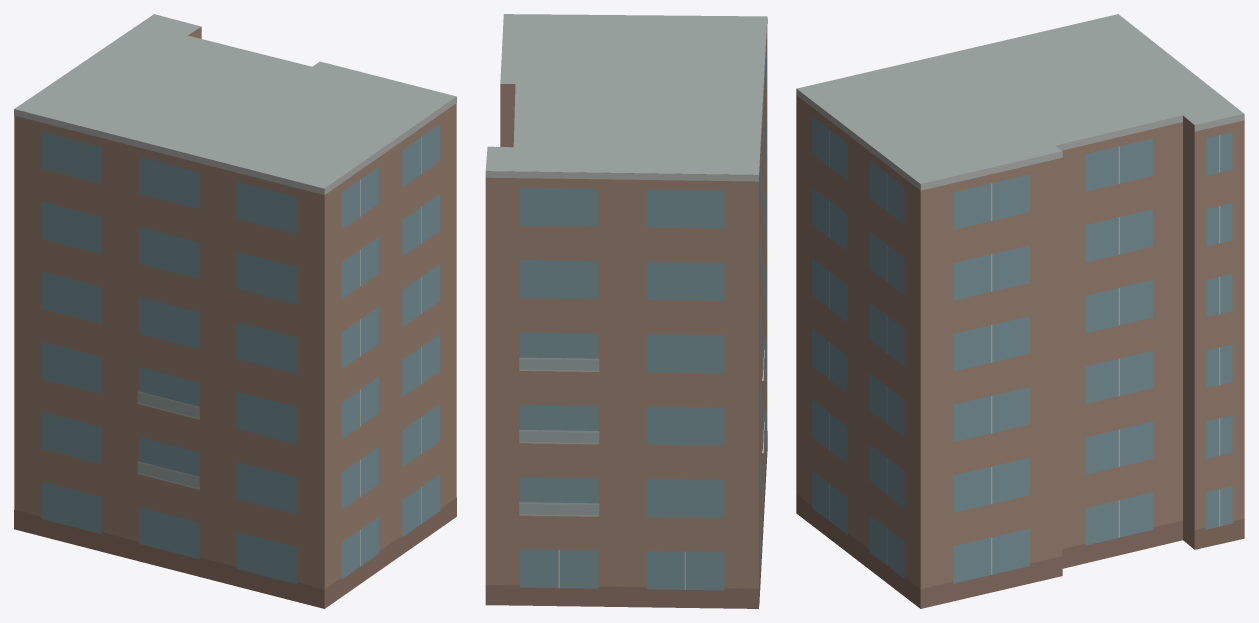
File: survey-upis-32887717.glb
3 views of the same model, side by side, from view 1: azimuth 30°, elevation 25°; view 2: azimuth 150°, elevation 25°; view 3: azimuth 270°, elevation 25° (orthographic). The views are drawn at different scales.
Parts seen in each view (by area): view 1: survey-upis-32887717.tmp; view 2: survey-upis-32887717.tmp; view 3: survey-upis-32887717.tmp.
Boxes of the visible parts, x1=… form: survey-upis-32887717.tmp: x1=14, y1=14, x2=456, y2=608; survey-upis-32887717.tmp: x1=485, y1=14, x2=767, y2=608; survey-upis-32887717.tmp: x1=796, y1=14, x2=1244, y2=608.
Size of the model in its own units: 13.67 by 15.9 by 15.21.
